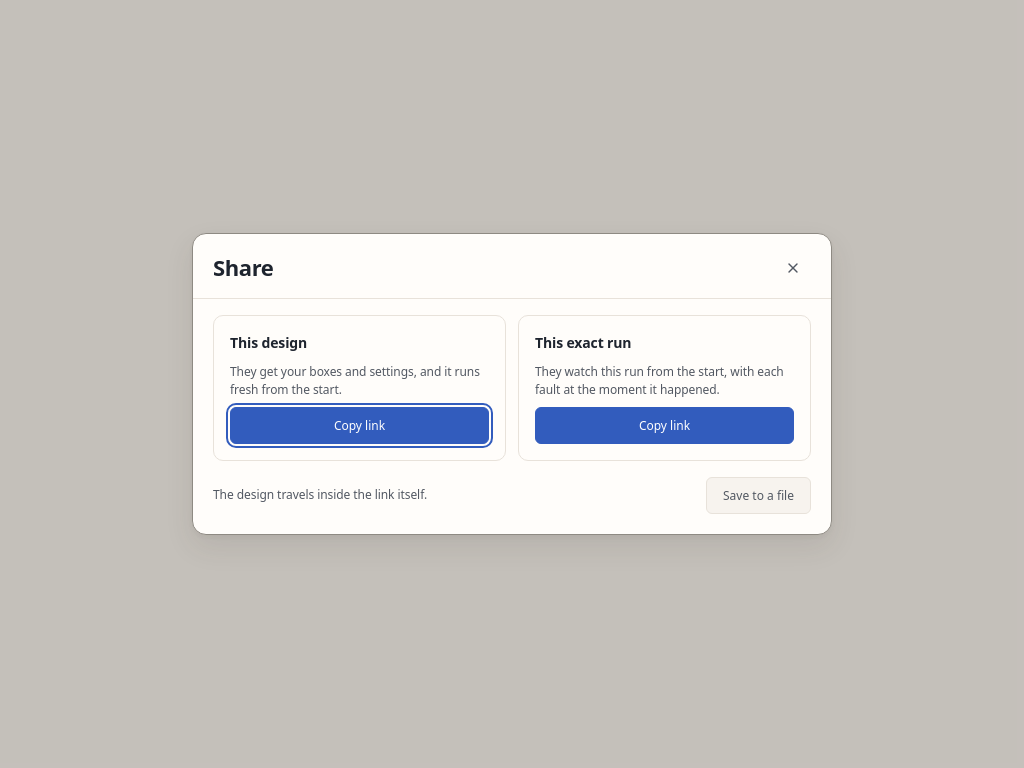
Test: Share › copying one link leaves the other usable, and each keeps its own
This screenshot has width=1024, height=768.
Press the mouse on the button with class "sh-copy" below "This design": point(360, 425) [230,406,489,444]
Click the button with class "sh-copy" below "This design": point(360, 425) [230,406,489,444]
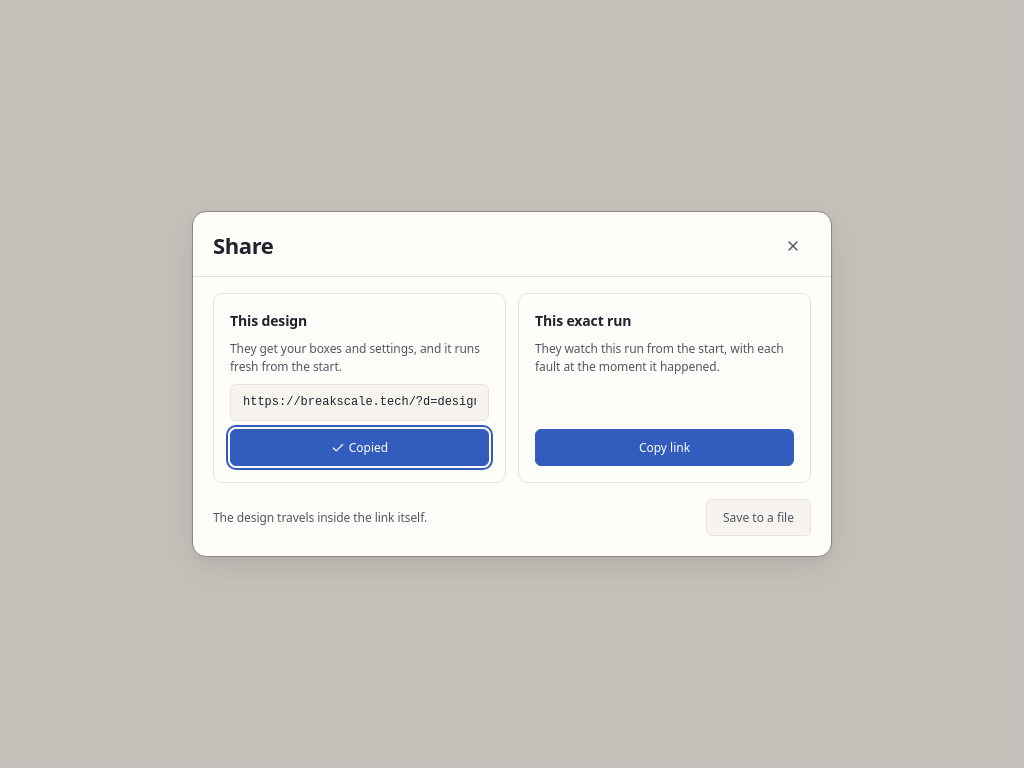
Press the mouse on the button with class "sh-copy" showing "Copy link": point(664, 448) [535,429,794,466]
Click the button with class "sh-copy" showing "Copy link": point(664, 448) [535,429,794,466]
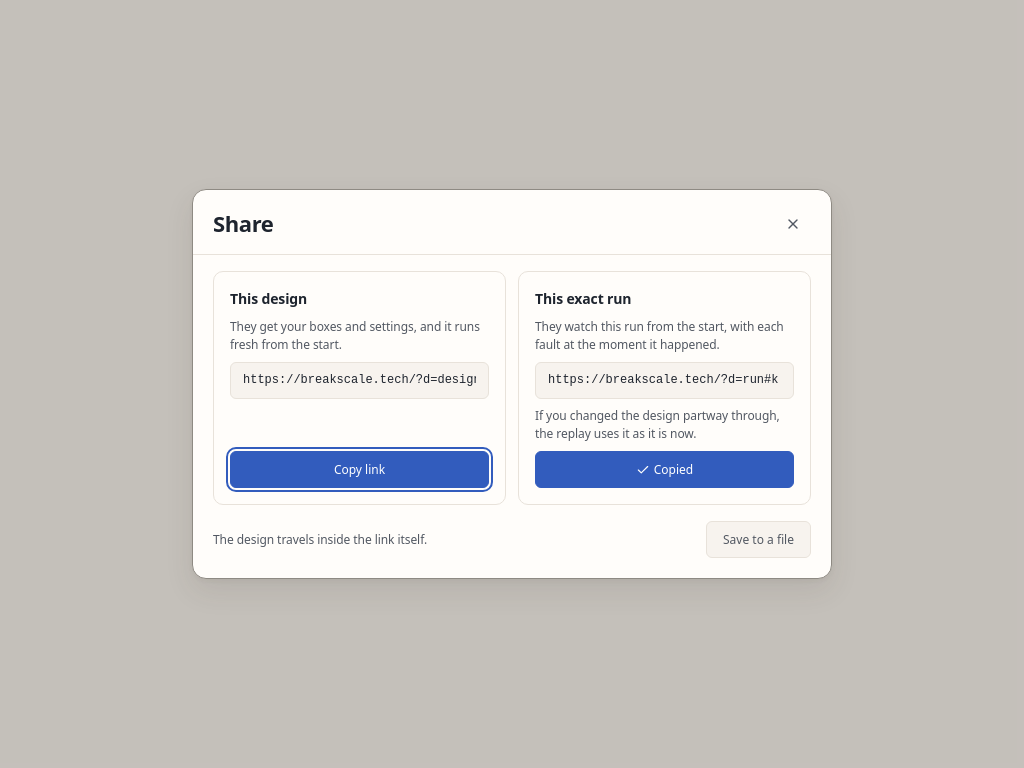
Now the number of fields with class "sh-url" is 2, box [230,362,489,399]; [535,362,794,399]
Now the button with class "sh-copy" reads "Copy link"
Now the button with class "sh-copy" reads "Copied", box [535,451,794,488]
Press the mouse on the button with class "sh-copy" showing "Copy link": point(360, 470) [230,451,489,488]
Click the button with class "sh-copy" showing "Copy link": point(360, 470) [230,451,489,488]
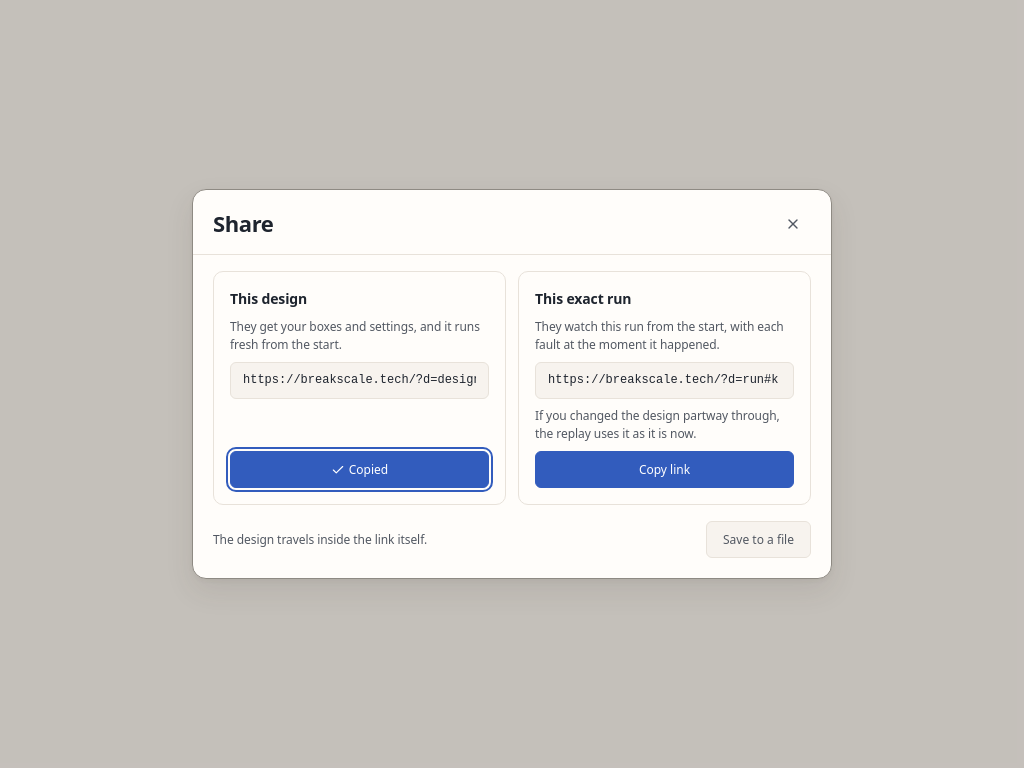
Now the button with class "sh-copy" reads "Copied", box [230,451,489,488]
